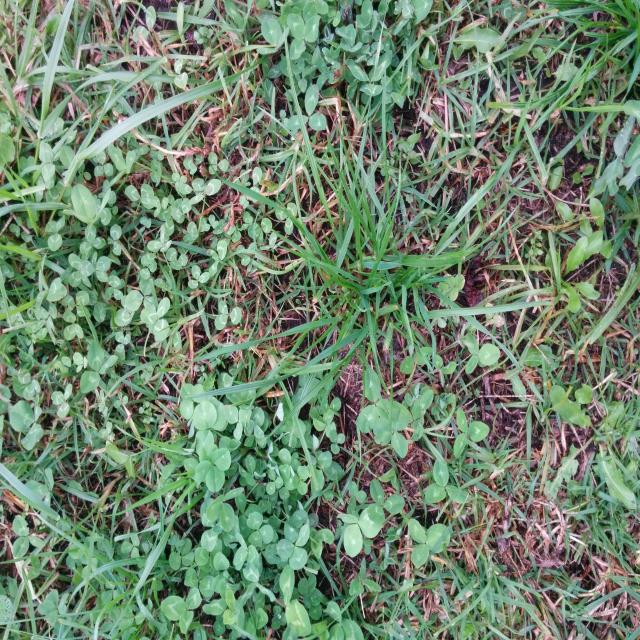Four Leaf Clover: (195, 443, 231, 493)
